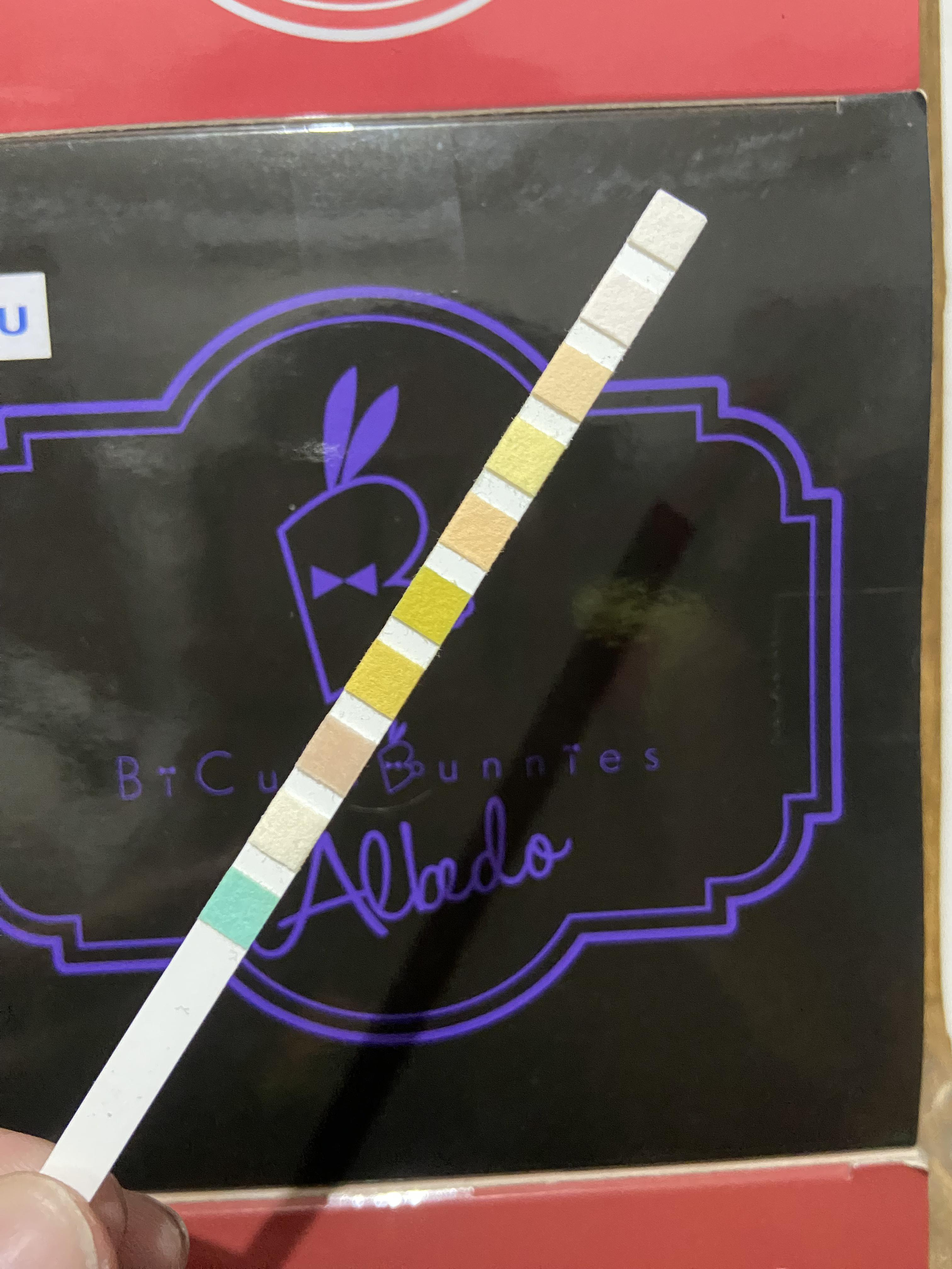Bilirubin: (266, 811, 310, 853)
Blood: (407, 587, 456, 624)
Glucose: (216, 888, 261, 928)
Ketone: (313, 735, 359, 775)
Leukocytes: (645, 211, 692, 246)
Nitrite: (596, 289, 642, 325)
Protein: (501, 439, 551, 474)
SpGravity: (360, 661, 409, 698)
Urobilinogen: (549, 363, 595, 400)
pH: (455, 514, 501, 552)
strip: (46, 189, 709, 1196)
